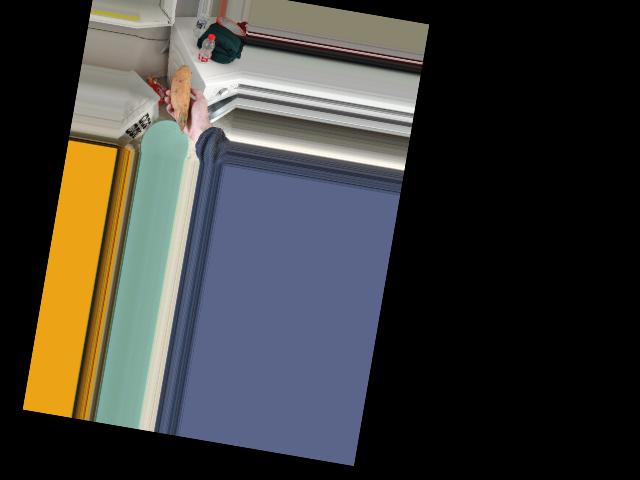sweet_potato: (165, 69, 197, 126)
